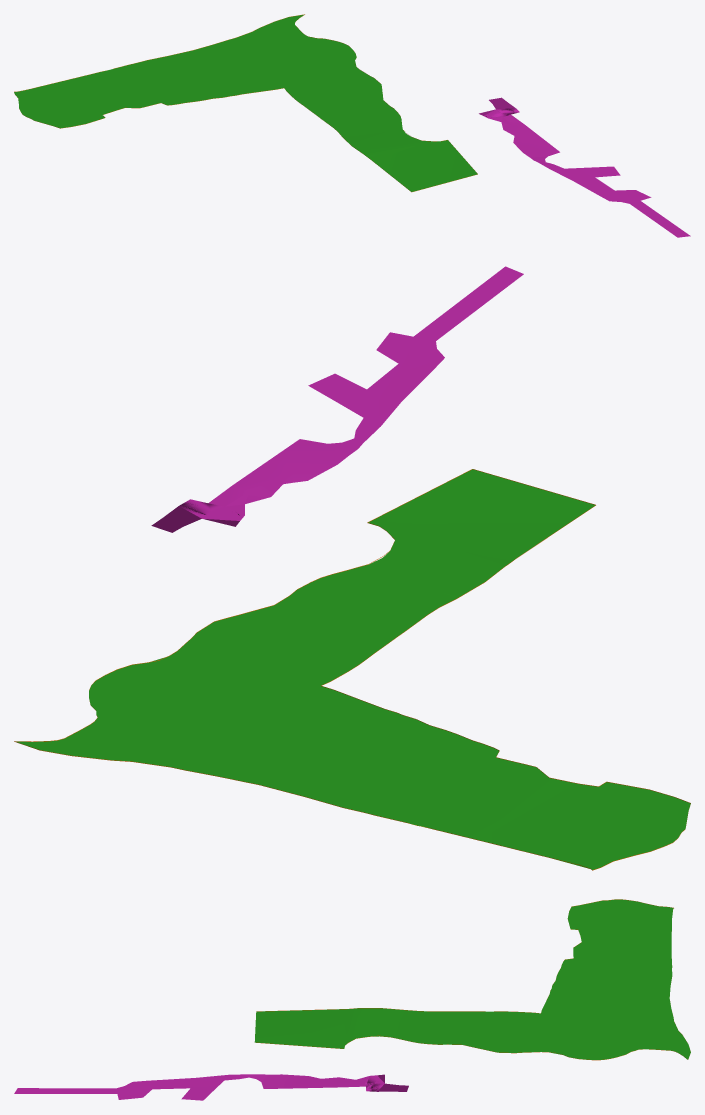
Rendered from Parque_Guaymaral_03.fbx.
3 views of the same model, one above another, from view 1: azimuth 30°, elevation 25°; view 2: azimuth 150°, elevation 25°; view 3: azimuth 270°, elevation 25° (orthographic). The views are drawn at different scales.
Visible parts, largest first — view 1: PolyShape__1_, er; view 2: PolyShape__1_, er; view 3: PolyShape__1_, er.
Part boxes in pixels (x1=…): PolyShape__1_: x1=14, y1=14, x2=477, y2=192; er: x1=479, y1=97, x2=690, y2=237; PolyShape__1_: x1=14, y1=469, x2=690, y2=870; er: x1=151, y1=266, x2=523, y2=532; PolyShape__1_: x1=254, y1=899, x2=690, y2=1060; er: x1=14, y1=1074, x2=408, y2=1100.
Size of the model in its own units: 166095 by 1327 by 237682.
